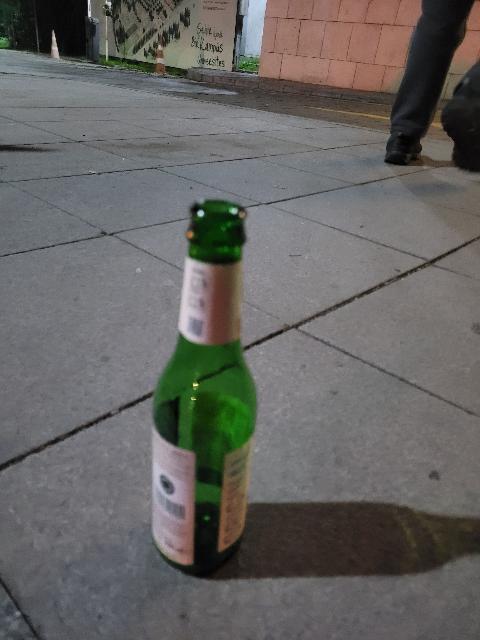Cam: (148, 190, 259, 578)
